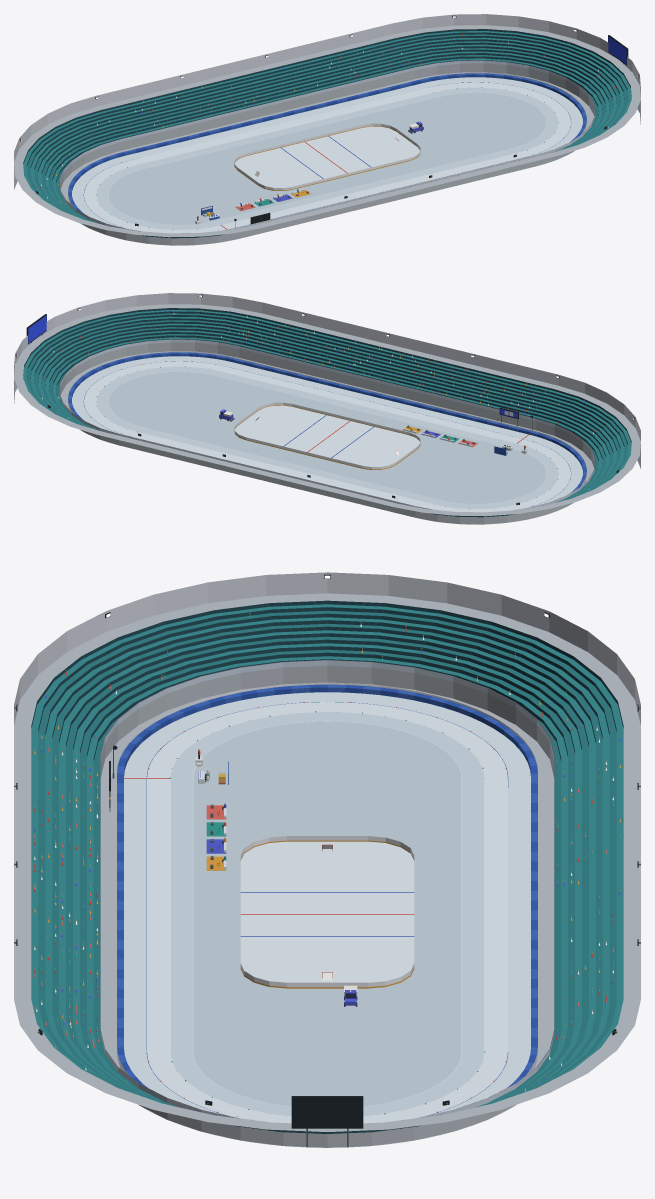
Rendered from iceoval.glb.
3 renders of one model, top to bottom at view 1: azimuth 30°, elevation 25°; view 2: azimuth 150°, elevation 25°; view 3: azimuth 270°, elevation 25°, orthographic. The views are drawn at different scales.
Visible parts, largest first — view 1: Stands, Ice, InfieldKit, HallWall, Pads, StandRail, HallKit, Crowd; view 2: Stands, Ice, InfieldKit, HallWall, Pads, StandRail, Crowd, HallKit; view 3: Ice, Stands, InfieldKit, Pads, HallWall, StandRail, HallKit, Crowd.
Boxes of the visible parts, x1,y1,x2,y2 form: Stands: (14, 25, 640, 245); Ice: (72, 77, 582, 233); InfieldKit: (195, 121, 423, 227); HallWall: (14, 14, 640, 189); Pads: (60, 72, 594, 245); StandRail: (59, 60, 595, 231); HallKit: (19, 15, 639, 226); Crowd: (39, 33, 626, 232); Stands: (14, 304, 640, 524); Ice: (72, 356, 582, 512); InfieldKit: (219, 402, 532, 469); HallWall: (14, 293, 640, 468); Pads: (60, 351, 594, 524); StandRail: (59, 339, 595, 510); Crowd: (25, 309, 621, 502); HallKit: (15, 294, 635, 505); Ice: (124, 692, 530, 1123); Stands: (14, 593, 640, 1147); InfieldKit: (109, 745, 414, 1006); Pads: (100, 682, 554, 1147); HallWall: (14, 572, 640, 724); StandRail: (100, 660, 554, 1121); HallKit: (14, 574, 640, 1147); Crowd: (34, 613, 620, 1120).
Bounding box in the file's own units: 220 × 16.61 × 108.
